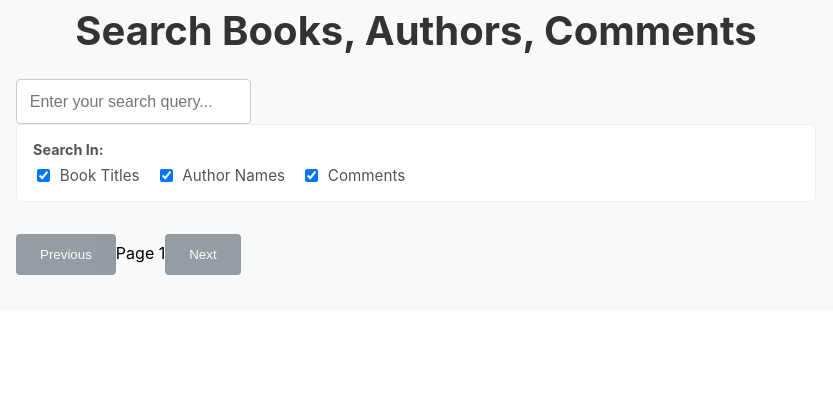
shows error if no indices are selected
Step 1. Type "test query" into the field with placeholder "Enter your search query..." → (133, 102), box [16,79,251,124]
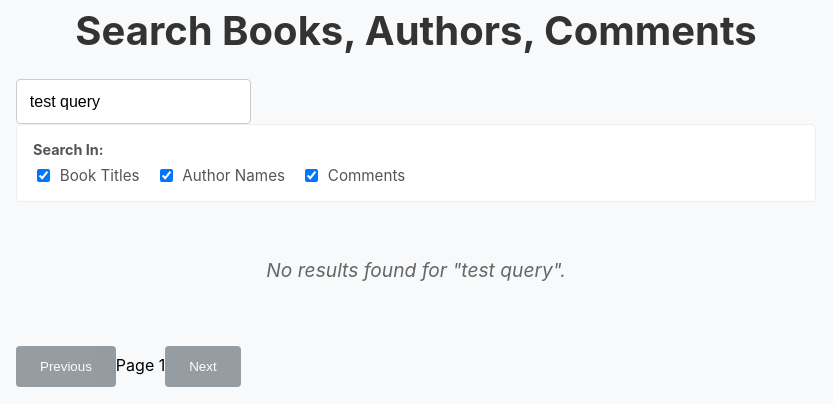
Note: Uncheck all default indices
Step 2. Click the checkbox labelled "Book Titles" → (44, 176), box [37,169,50,182]
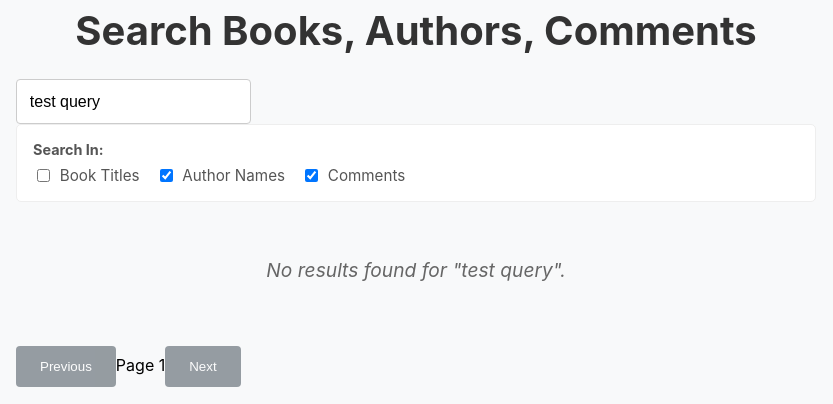
Step 3. Click the checkbox labelled "Author Names" → (166, 176), box [160,169,173,182]
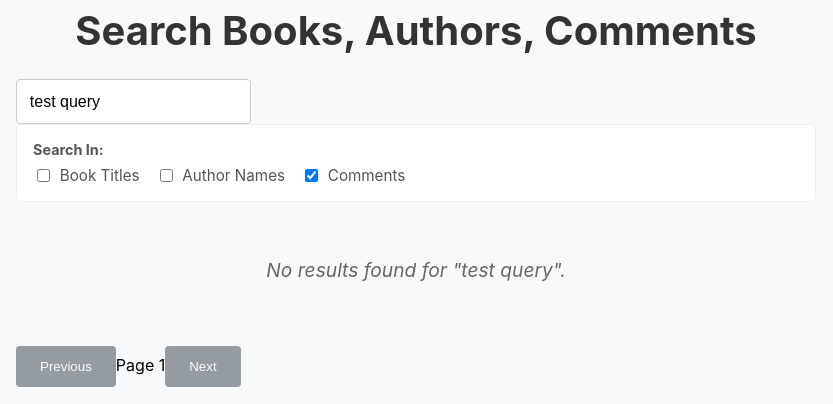
Step 4. Click the checkbox labelled "Comments" → (312, 176), box [305,169,318,182]
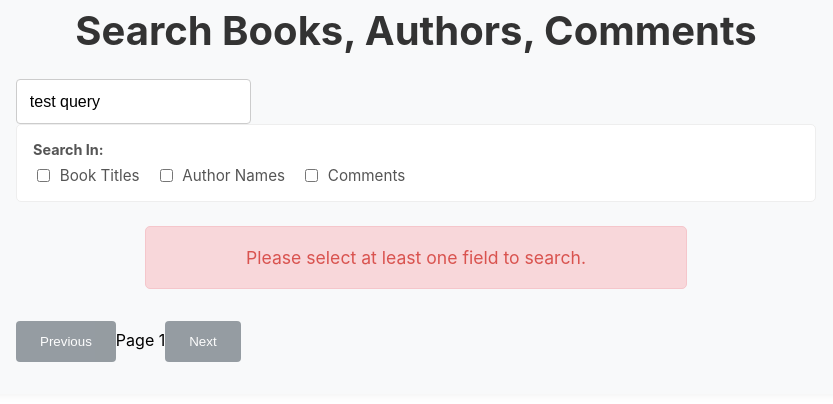
Expected: the text "Please select at least one field to search." is shown, [145,226,687,289]
